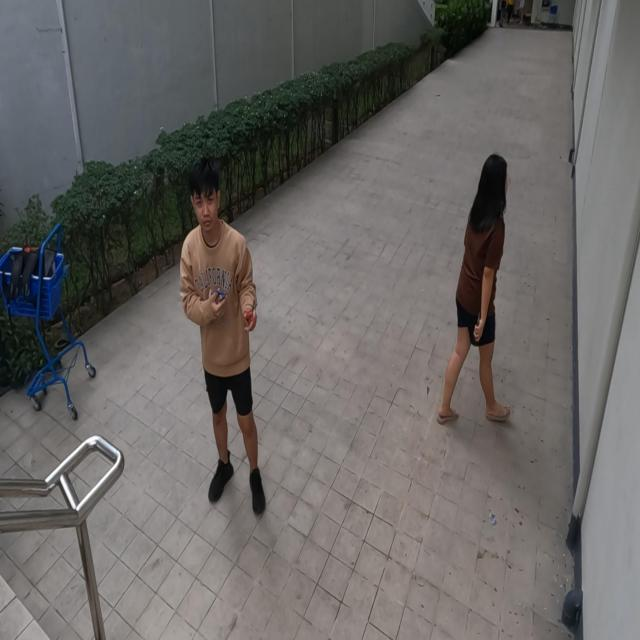scissor: (242, 297, 258, 330), (215, 286, 230, 301)
